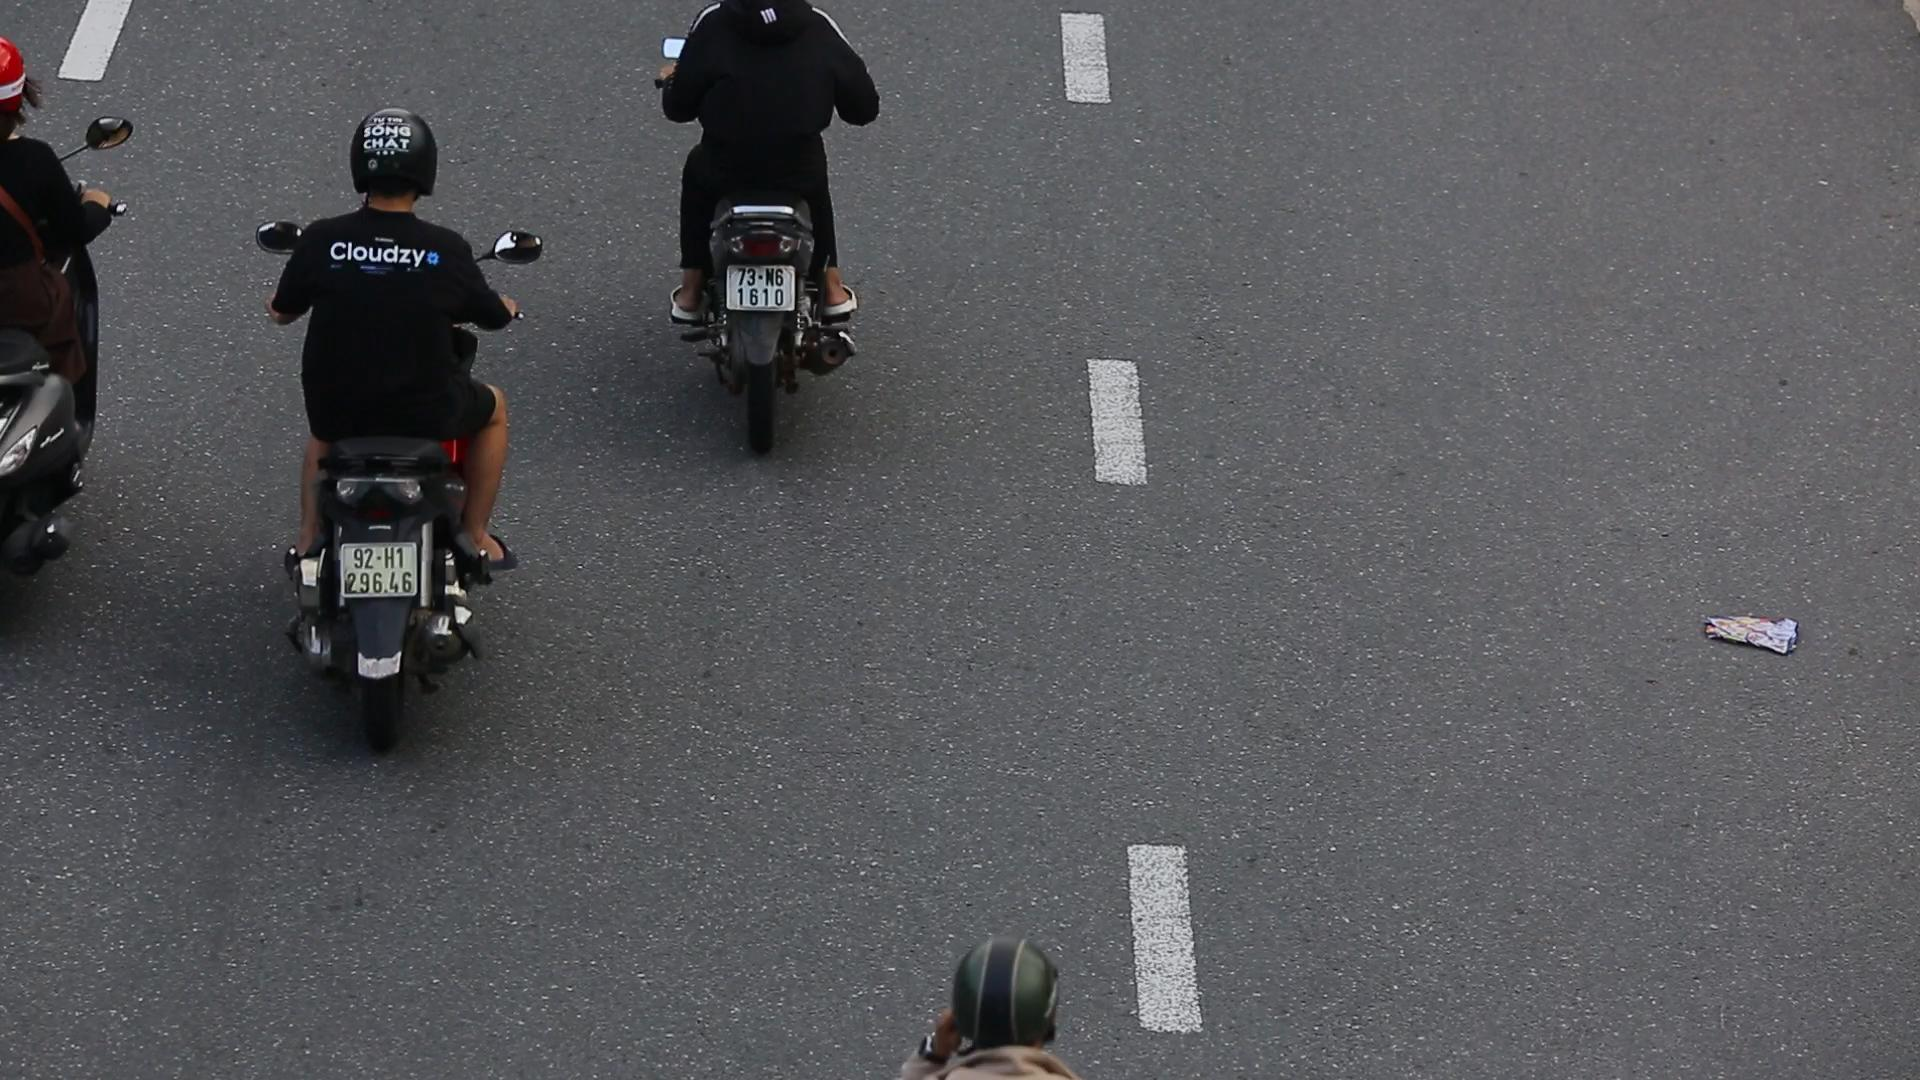motobike: (251, 84, 556, 793)
